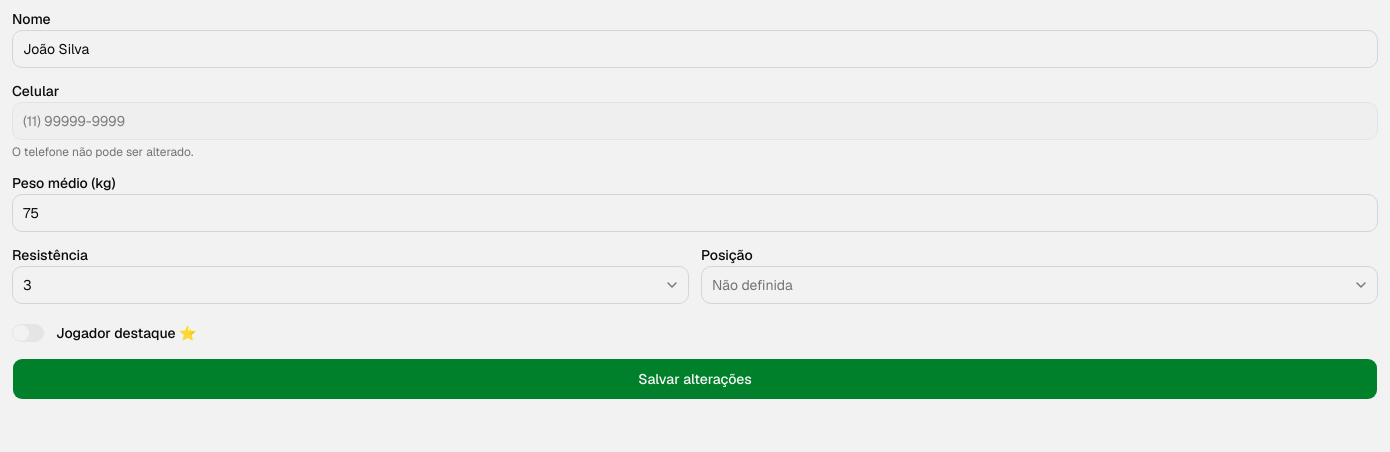
Test: EditPlayerForm › submission › shows server error when updatePlayer fails
The width and height of the screenshot is (1390, 452).
Click the button "Salvar alterações" at (695, 379), box 12,358 -> 1378,400
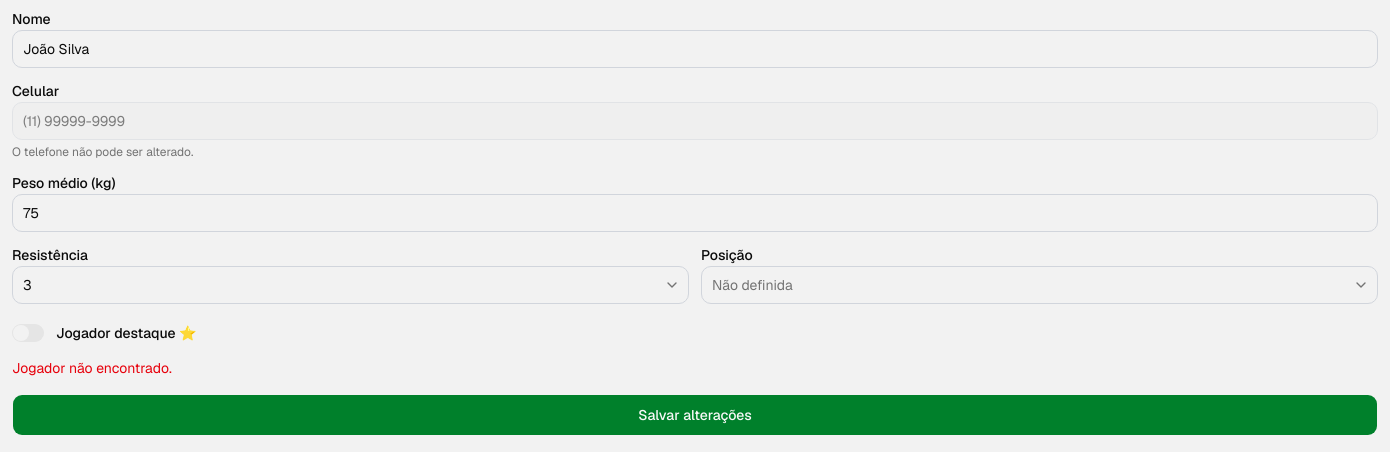
Result: the text "Jogador não encontrado." is shown at 12,359 -> 172,377
